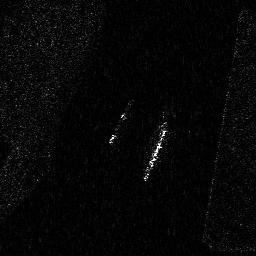ship: (143, 128, 167, 182), (106, 100, 134, 145)
